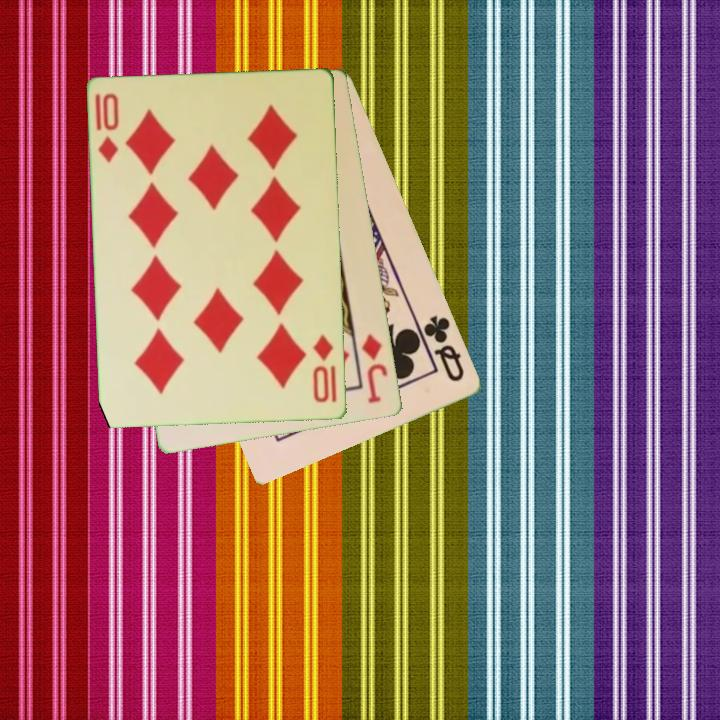10d: (95, 90, 122, 166), (309, 331, 336, 406)
Jd: (358, 330, 391, 407)
Qc: (415, 311, 468, 385)
